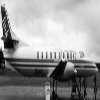faced: (29, 43, 65, 81)
